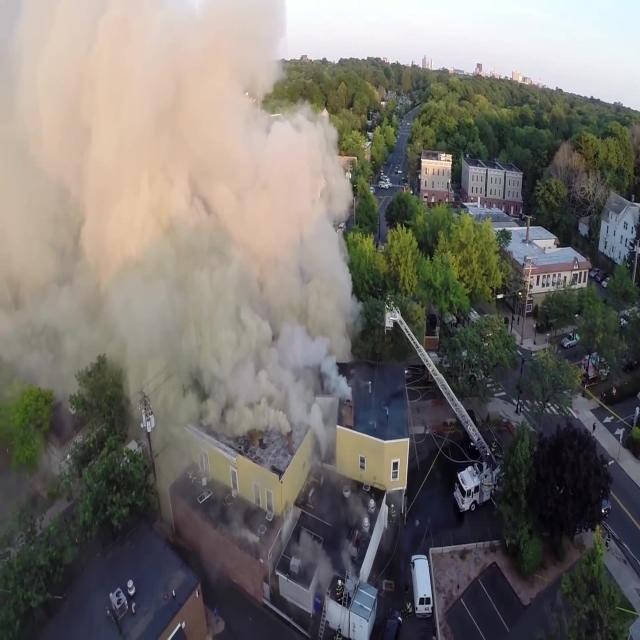Smoke: (1, 4, 346, 394)
